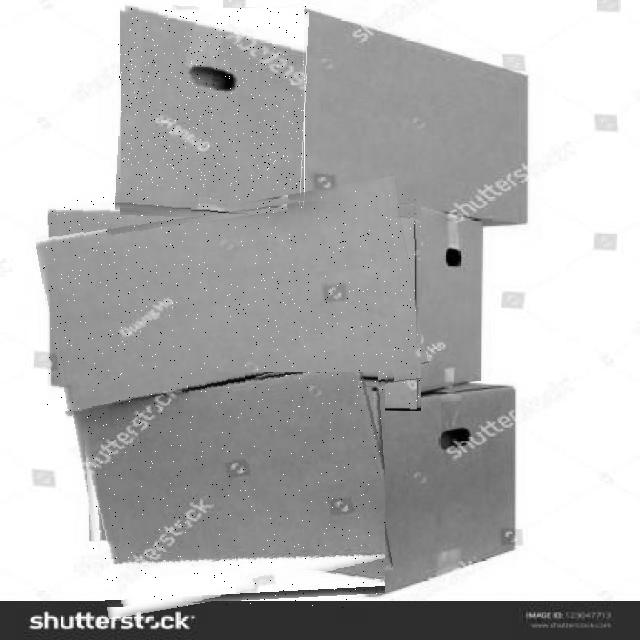BoxFace: (42, 191, 421, 411), (80, 372, 385, 608), (118, 6, 307, 214)
